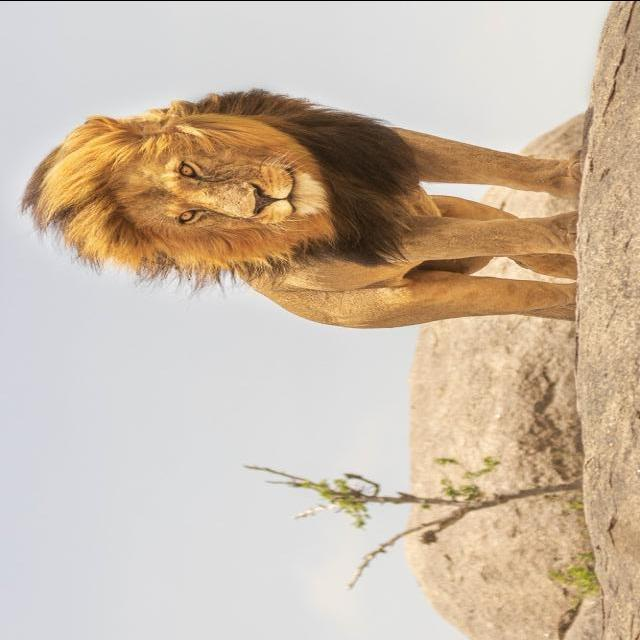lions: (8, 73, 640, 413)
